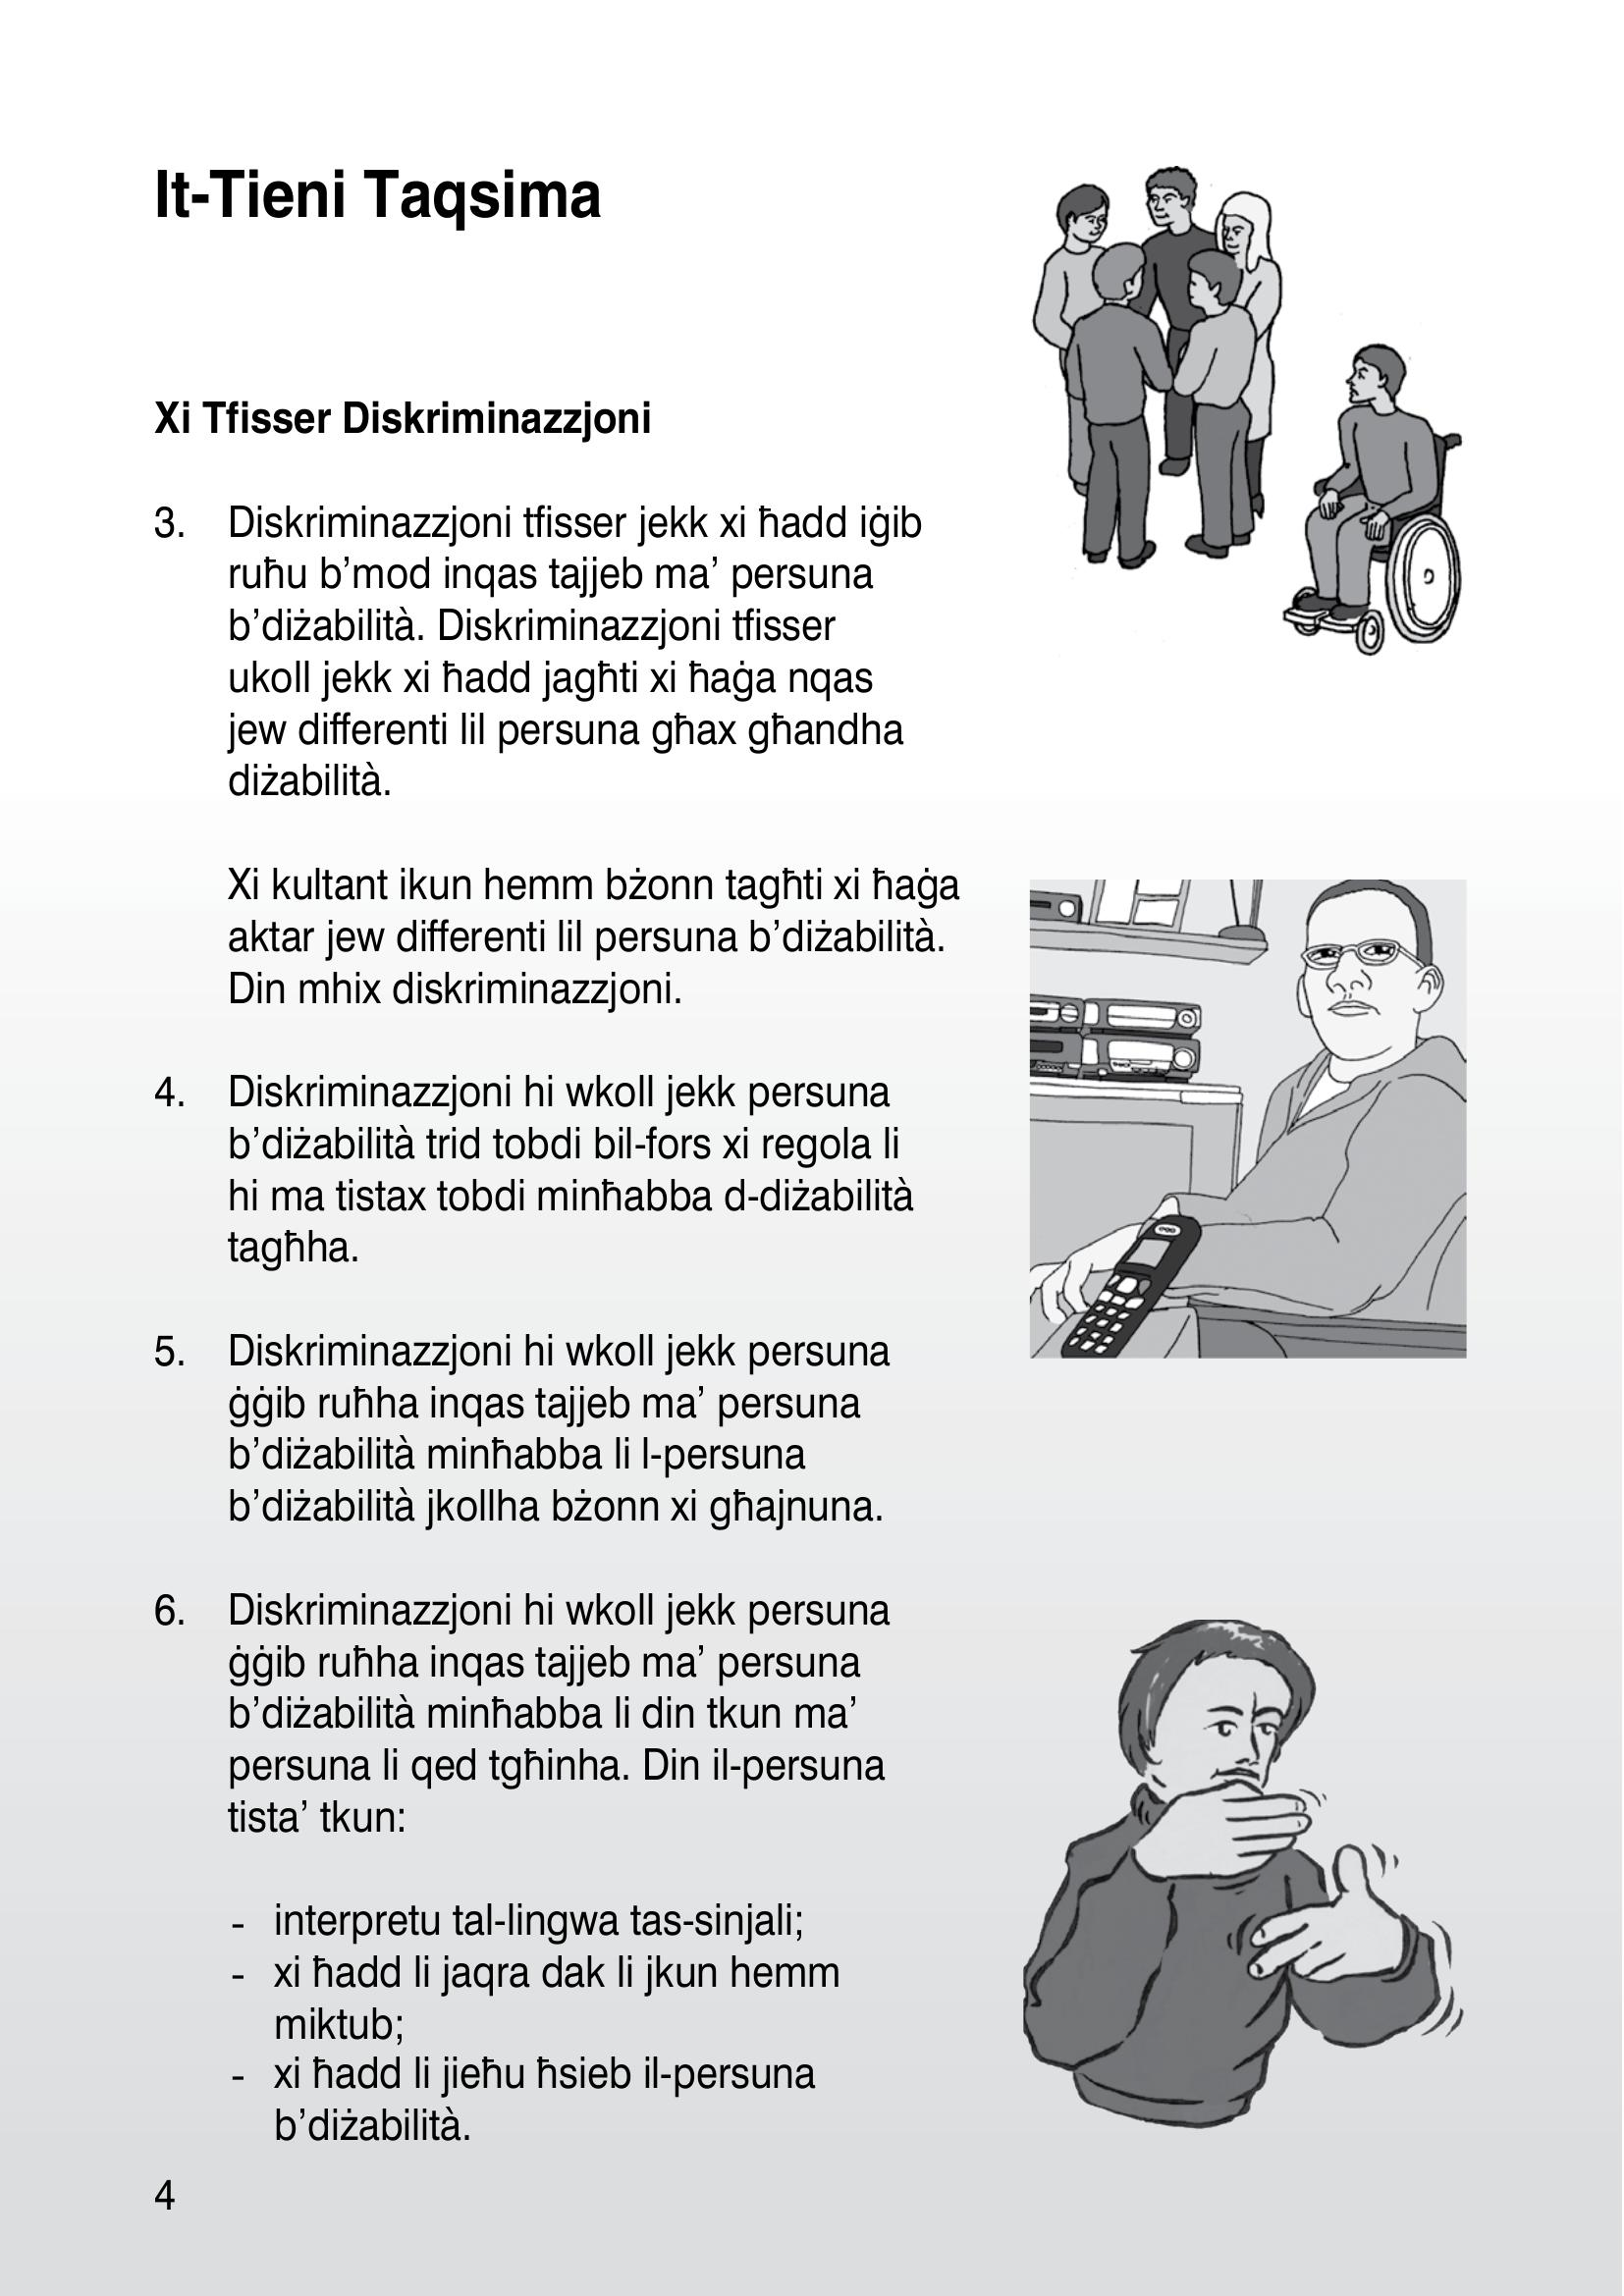text: (105, 144, 982, 2159)
